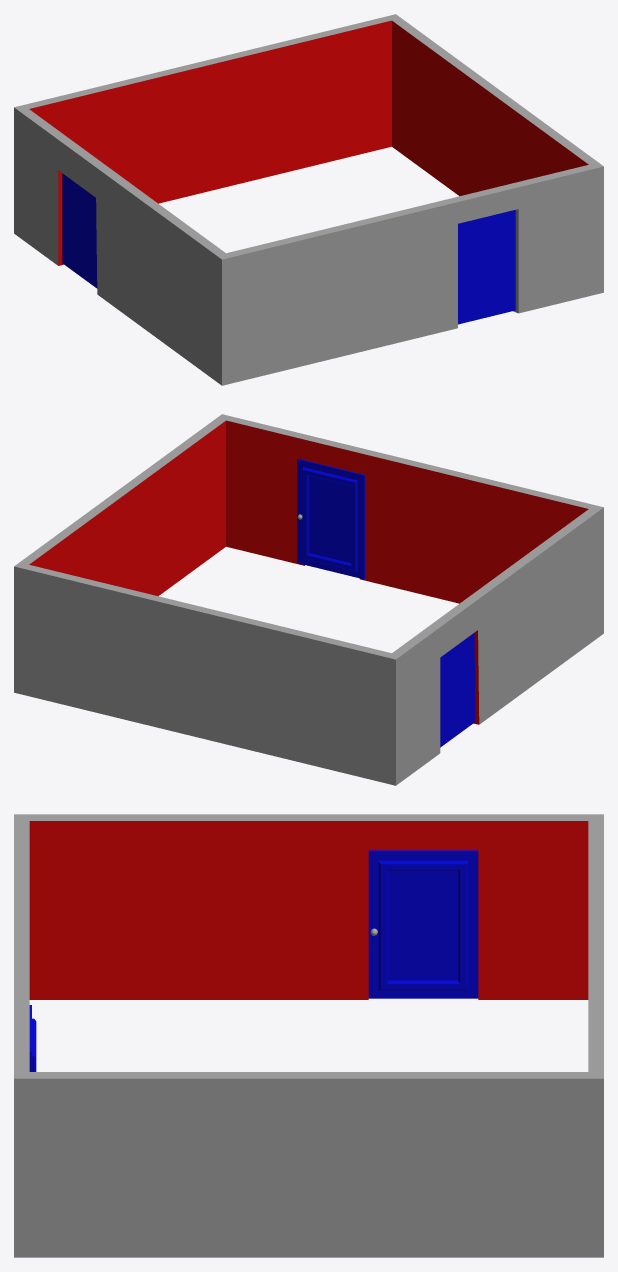
File: kitchen.fbx
3 views of the same model, one above another, from view 1: azimuth 30°, elevation 25°; view 2: azimuth 150°, elevation 25°; view 3: azimuth 270°, elevation 25° (orthographic). The views are drawn at different scales.
Parts seen in each view (by area): view 1: polySurface8, group3_pCube10, group2_pCube10; view 2: polySurface8, group3_pCube10, group2_pCube10; view 3: polySurface8, group2_pCube10.
Boxes of the visible parts, left/top/right/bottom form: polySurface8: left=14, top=14, right=603, bottom=385; group3_pCube10: left=458, top=210, right=515, bottom=324; group2_pCube10: left=62, top=173, right=97, bottom=288; polySurface8: left=14, top=414, right=603, bottom=785; group3_pCube10: left=297, top=458, right=364, bottom=579; group2_pCube10: left=440, top=633, right=474, bottom=747; polySurface8: left=14, top=814, right=603, bottom=1257; group2_pCube10: left=368, top=850, right=478, bottom=998.
Size of the model in its own units: 111 by 35.07 by 105.
